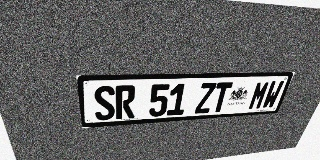1: (167, 83, 188, 116)
5: (149, 84, 170, 117)
M: (247, 81, 271, 110)
R: (115, 85, 136, 119)
S: (93, 86, 115, 121)
T: (210, 82, 233, 113)
W: (261, 81, 285, 109)
Z: (194, 83, 217, 114)
